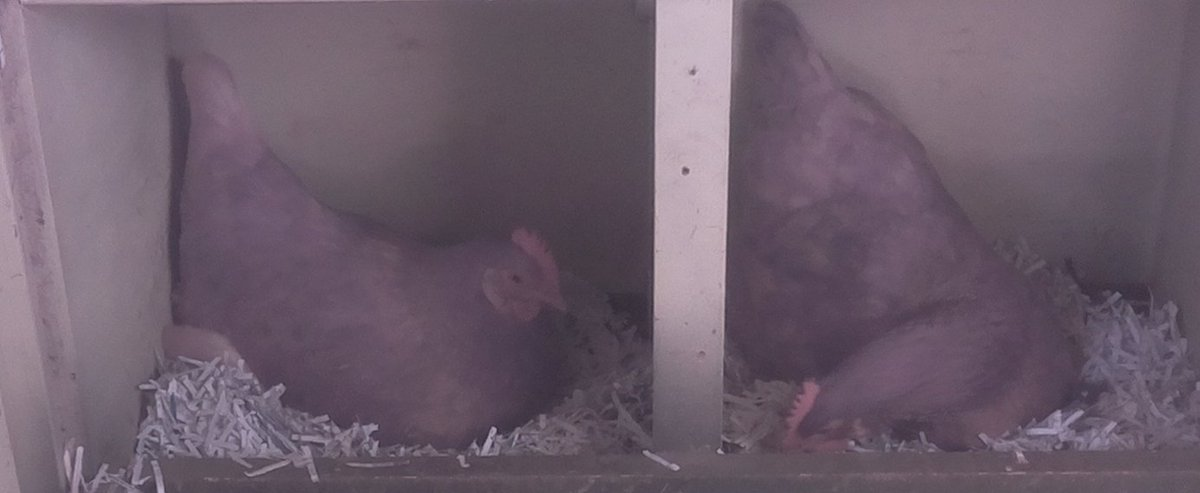hen: (737, 10, 1096, 448), (166, 80, 587, 453)
